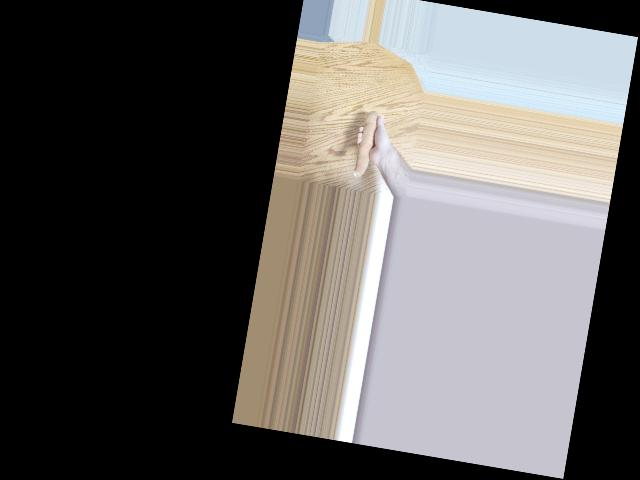sweet_potato: (353, 112, 384, 181)
